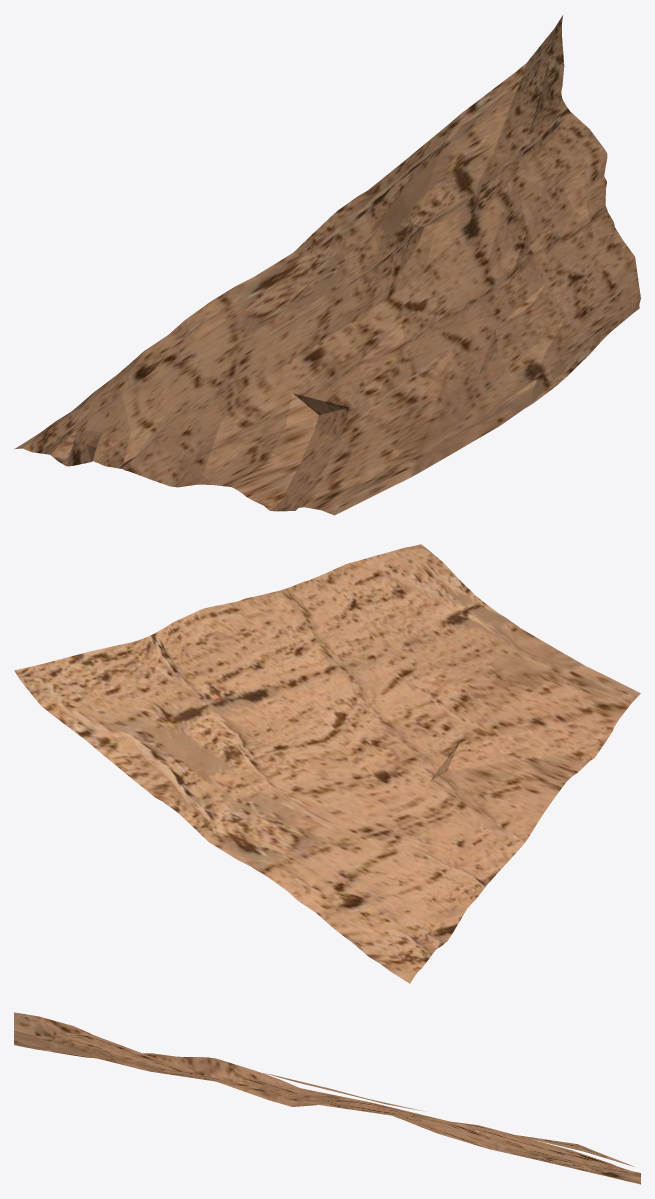
3 renders of one model, top to bottom at view 1: azimuth 30°, elevation 25°; view 2: azimuth 150°, elevation 25°; view 3: azimuth 270°, elevation 25°, orthographic. The views are drawn at different scales.
Size of the model in its own units: 1.03 by 0.5408 by 1.04.
2 materials, 2 textured.
